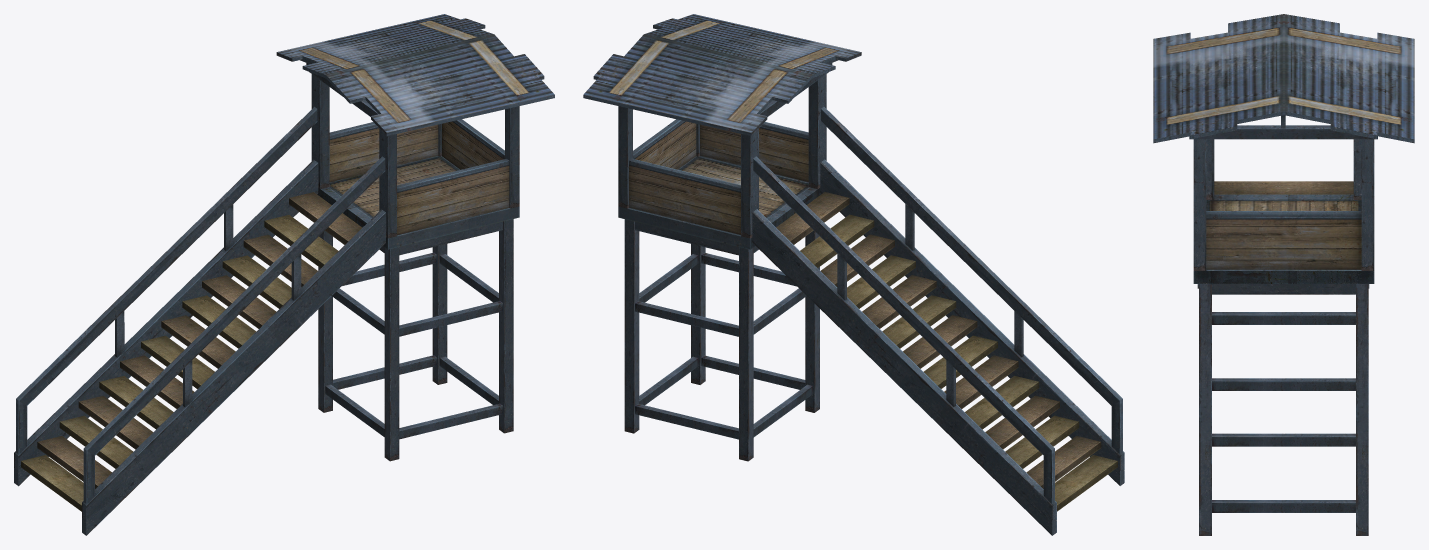
The model's file is Prop_Lwt01_v2.glb.
3 views of the same model, side by side, from view 1: azimuth 30°, elevation 25°; view 2: azimuth 150°, elevation 25°; view 3: azimuth 270°, elevation 25° (orthographic). The views are drawn at different scales.
Parts seen in each view (by area): view 1: xiutz_lwt_01; view 2: xiutz_lwt_01; view 3: xiutz_lwt_01.
Boxes of the visible parts, x1,y1,x2,y2 form: xiutz_lwt_01: [14, 14, 554, 535]; xiutz_lwt_01: [583, 14, 1124, 535]; xiutz_lwt_01: [1153, 14, 1414, 535].
Bounding box in the file's own units: 12.08 × 9.3 × 5.08.
1 material, 1 textured.
